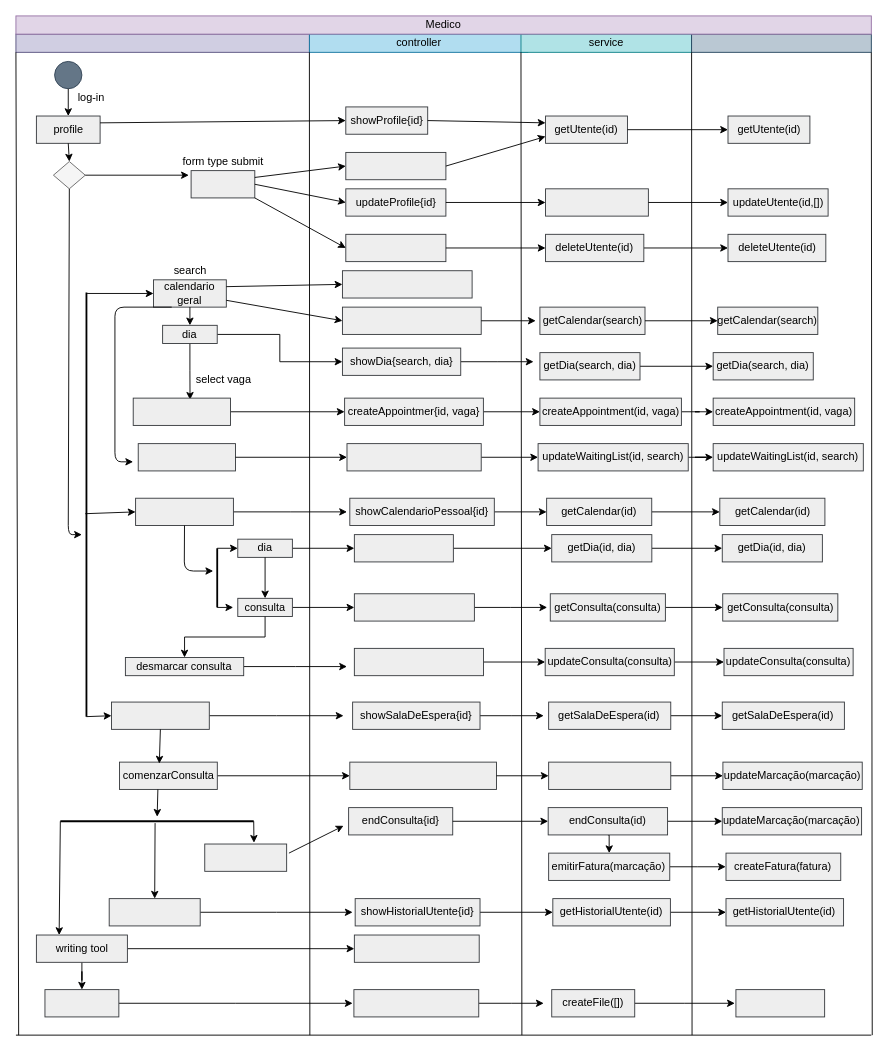
Image size: 889x1052. Some labels were removed from this diagram. Each missing label, with the centre of its shape:
"acabar consulta" goes at (245,857).
"calendario pessoal" goes at (184,511).
"createFile(file)" goes at (780,1003).
"createFile{[]}" goes at (416,1003).
"deleteProfile{id}" goes at (395,247).
"historial do utente" goes at (154,912).
"lista de espera" goes at (186,457).
"marcar consulta" goes at (181,411).
"putWaitingList{id, search}" goes at (413,457).
"repository" goes at (781,42).
"salaDeEspera" goes at (160,715).
"save" goes at (81,1003).
"settings" goes at (222,184).
"showCalendarGeral{search}" goes at (411,320).
"showCalendarioGeral{id}" goes at (407,284).
"showComenzarConsulta{id}" goes at (422,775).
"showConsulta{consulta}" goes at (413,607).
"showDia{id, dia}" goes at (403,548).
"showSettings{id}" goes at (395,166).
"showWritingTool" goes at (416,948).
"startConsulta(marcaçao)" goes at (609,775).
"updateConsulta{consulta}" goes at (418,661).
"updateUtente(id, [])" goes at (596,202).
"views" goes at (162,42).
